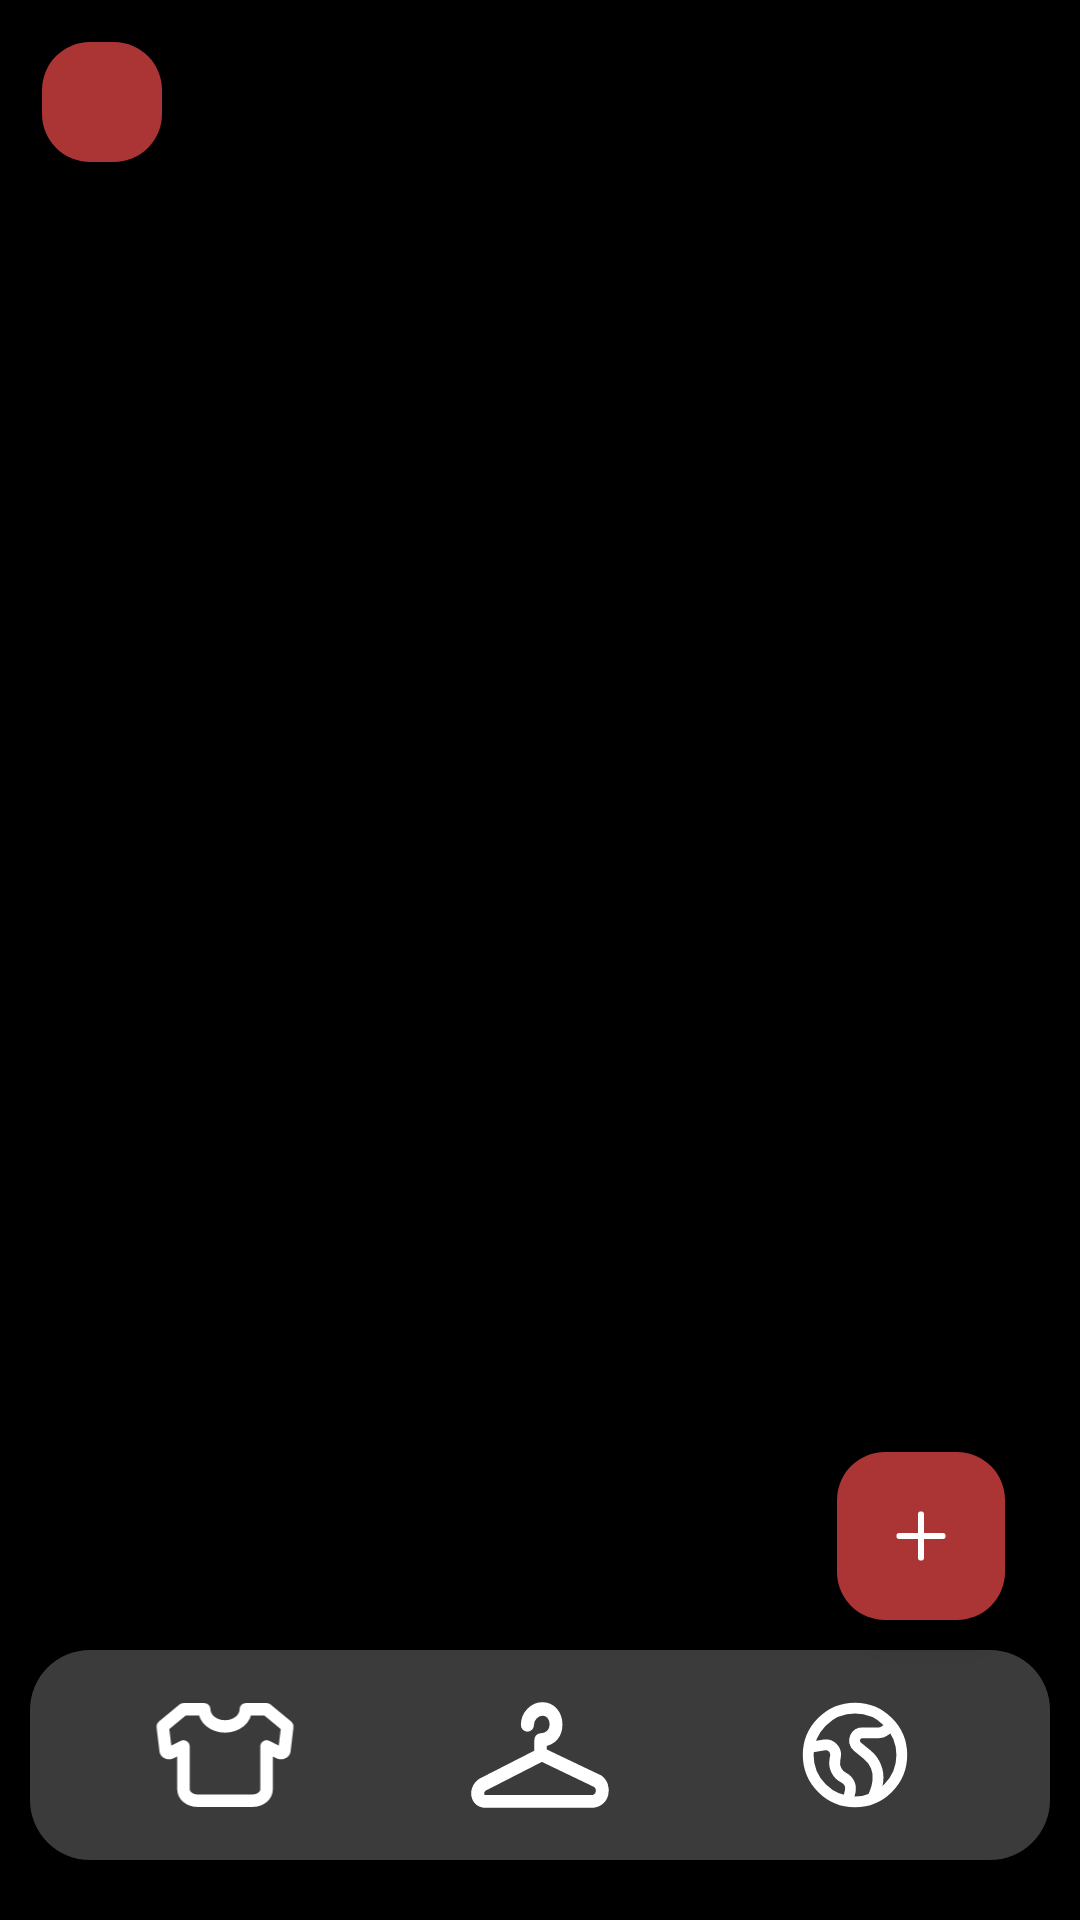

Screen size 1080px x 1920px. Icon name, then its center in pixels as point (x, y):
add: point (921, 1536)
hanger: point (540, 1755)
outfit: point (225, 1755)
social: point (855, 1755)
